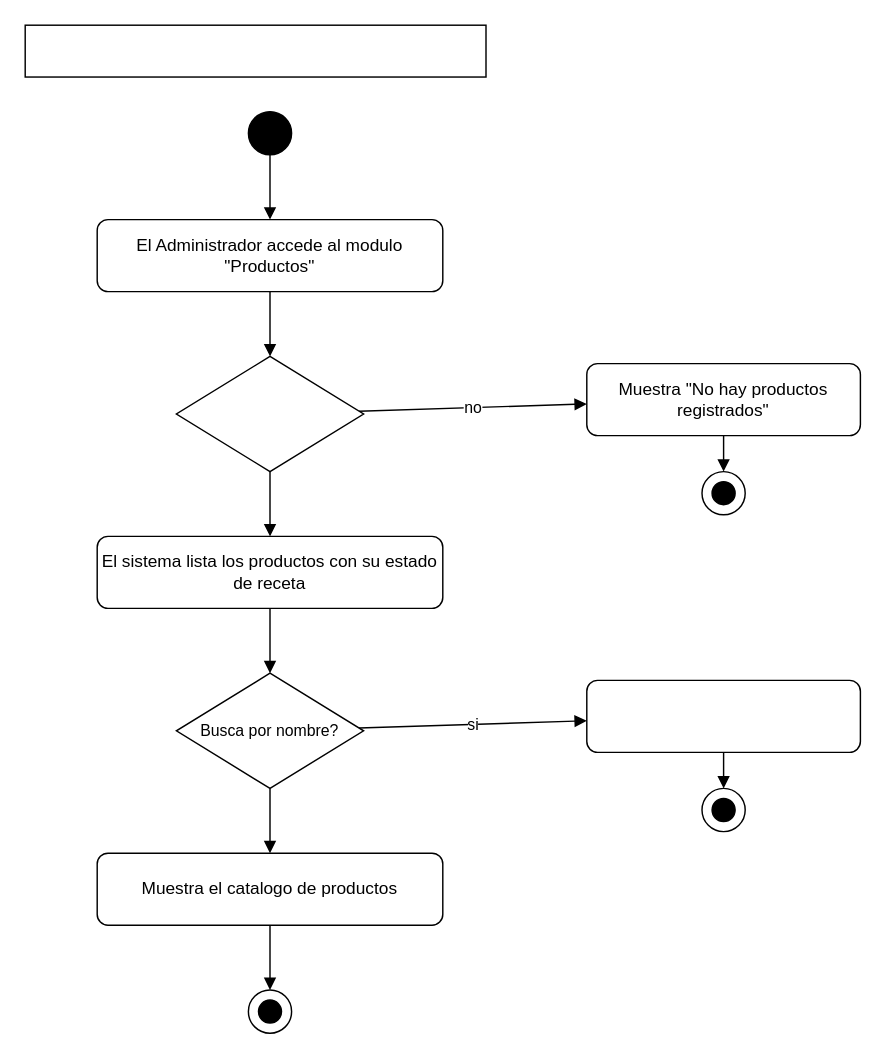
The diagram is 886 pixels wide and 1058 high, and some of its shapes have lost their labels. The centre of each missing label's shape, as x and y in pixels:
Diagrama de actividad - Listar Productos (CU-22): point 255,50
Filtra la lista por el nombre: point 722,715
Hay productos registrados?: point 269,413
